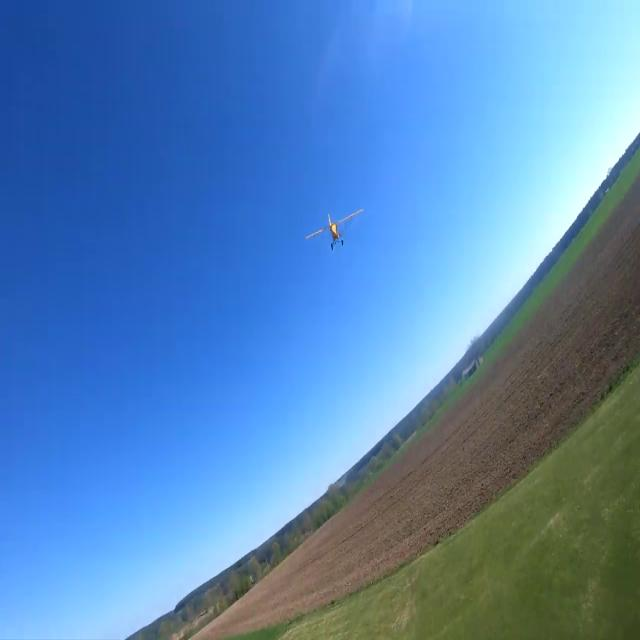iha: (304, 206, 362, 248)
